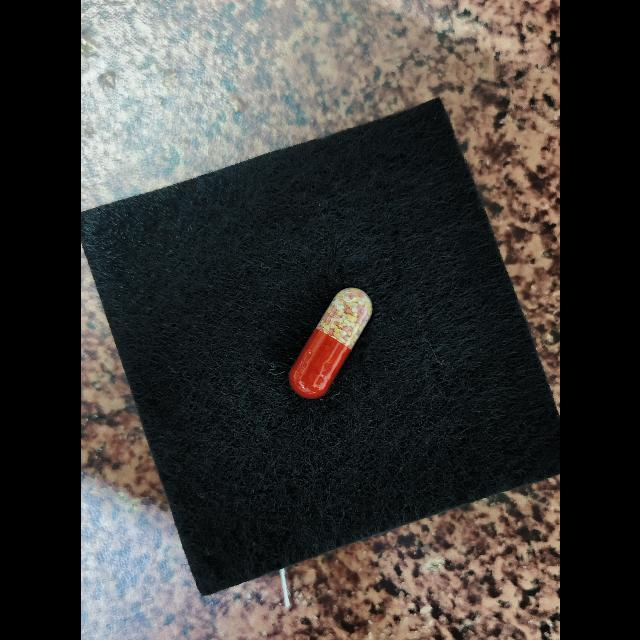Intact Capsule: (288, 287, 372, 398)
